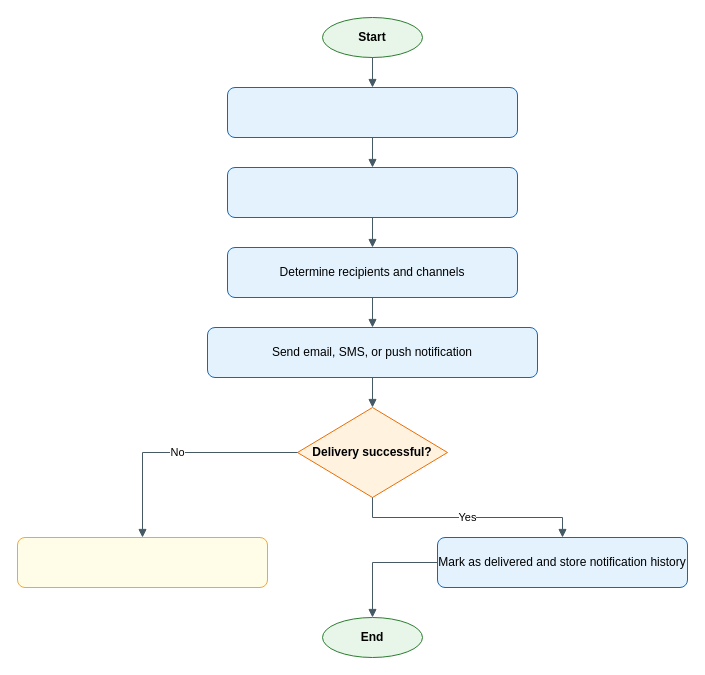
Some shapes in this 705 by 675 pixel diagram are drawn without their labels. Here are the shapes that lost their labels. From the top down, the box of each, then its label:
(226, 86, 518, 138): Event occurs in the platform
(226, 166, 518, 218): Select template and message content
(16, 536, 268, 588): Queue retry or raise alert
